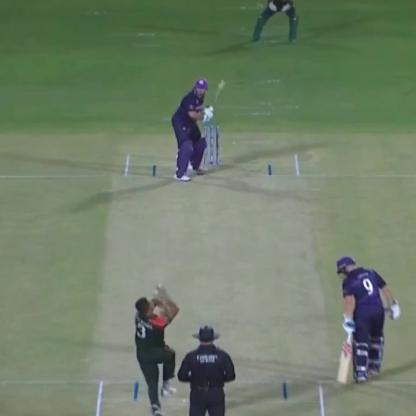ball: (150, 288, 161, 304), (149, 281, 169, 289)
bat: (334, 317, 356, 392), (202, 71, 224, 118)
pitch: (90, 150, 336, 415)
